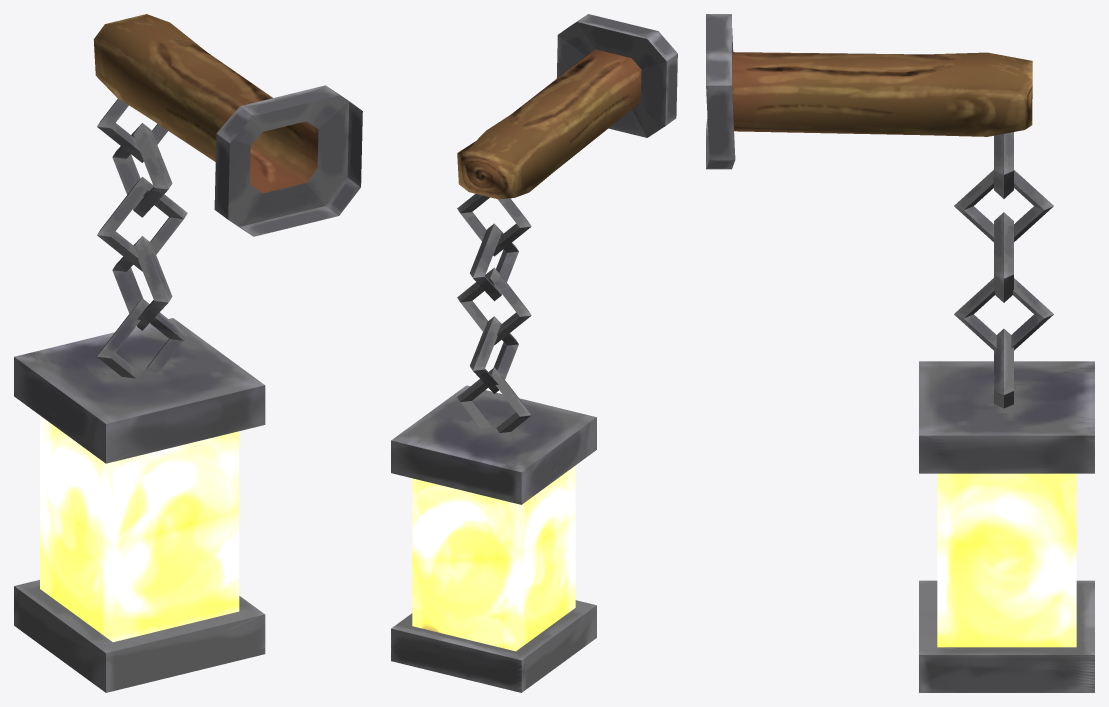
The model's file is latern.glb.
3 views of the same model, side by side, from view 1: azimuth 30°, elevation 25°; view 2: azimuth 150°, elevation 25°; view 3: azimuth 270°, elevation 25° (orthographic). The views are drawn at different scales.
Visible parts, largest first — view 1: Cube.009; view 2: Cube.009; view 3: Cube.009.
Part boxes in pixels (bbox=[...]): Cube.009: bbox=[14, 14, 362, 692]; Cube.009: bbox=[391, 14, 677, 692]; Cube.009: bbox=[706, 14, 1094, 692].
Bounding box in the file's own units: 0.3005 × 1.17 × 0.6647.
Materials: 1 (1 with a texture image).
